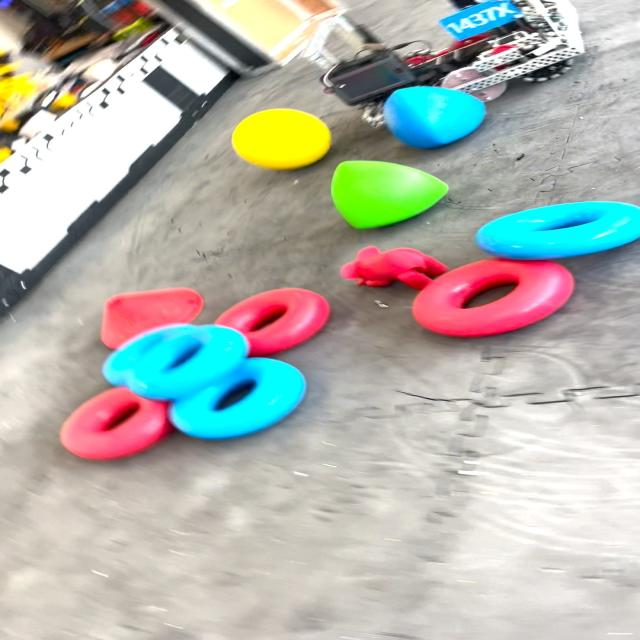Blue-Ring: (169, 358, 307, 439), (102, 324, 249, 400), (476, 201, 640, 260)
Red-Ring: (413, 259, 573, 338), (60, 388, 173, 460), (216, 288, 329, 356)
